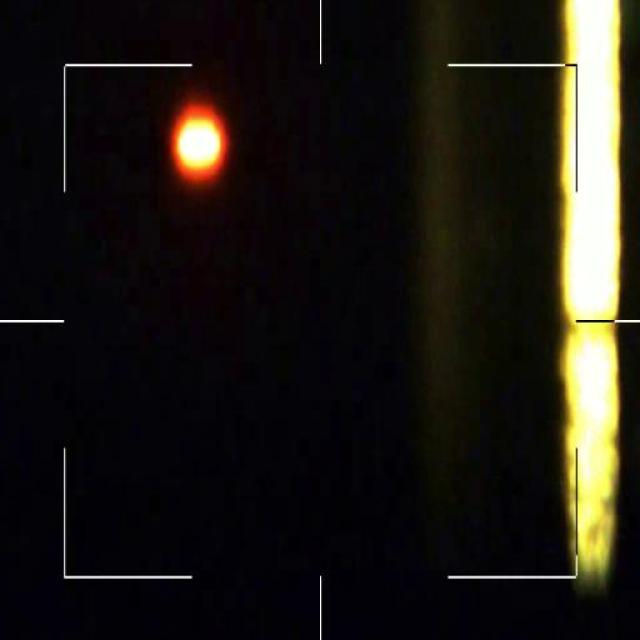bird: (170, 106, 228, 176)
